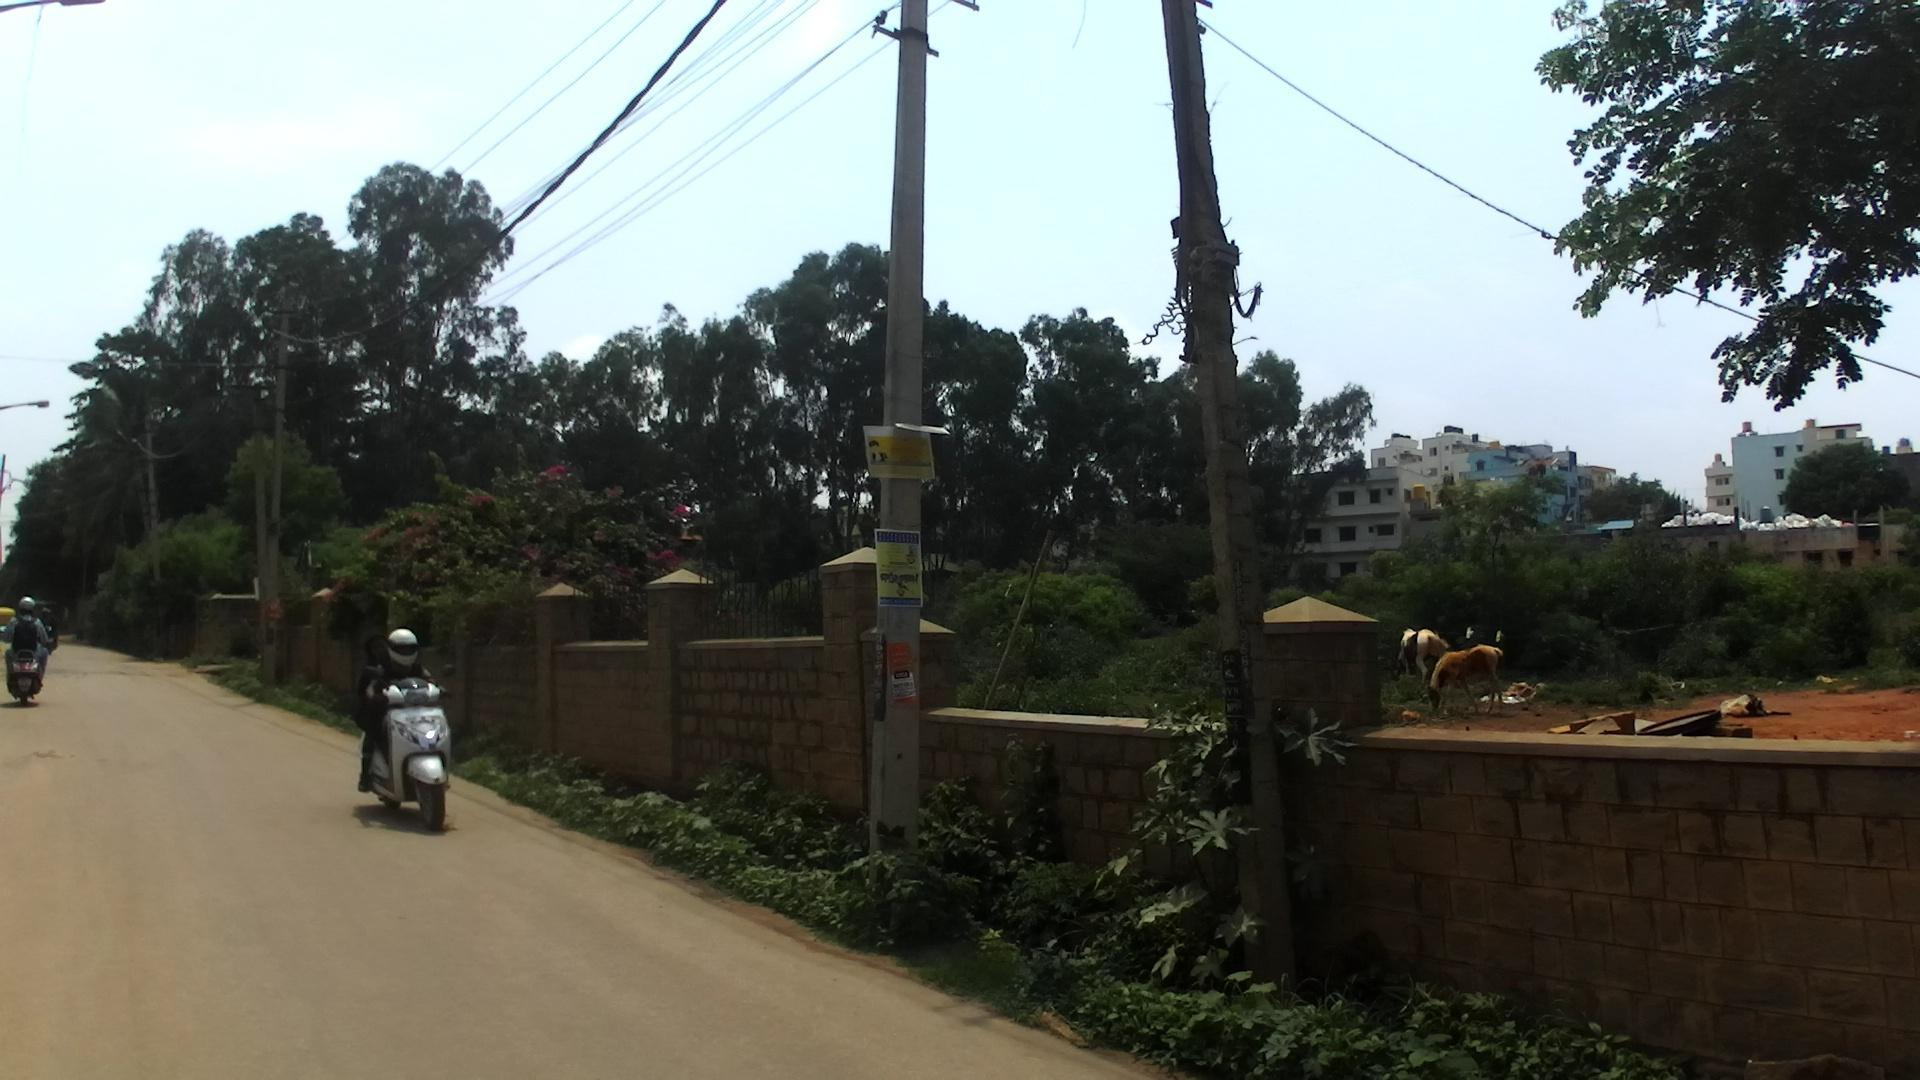off: (0, 0, 1527, 1080)
